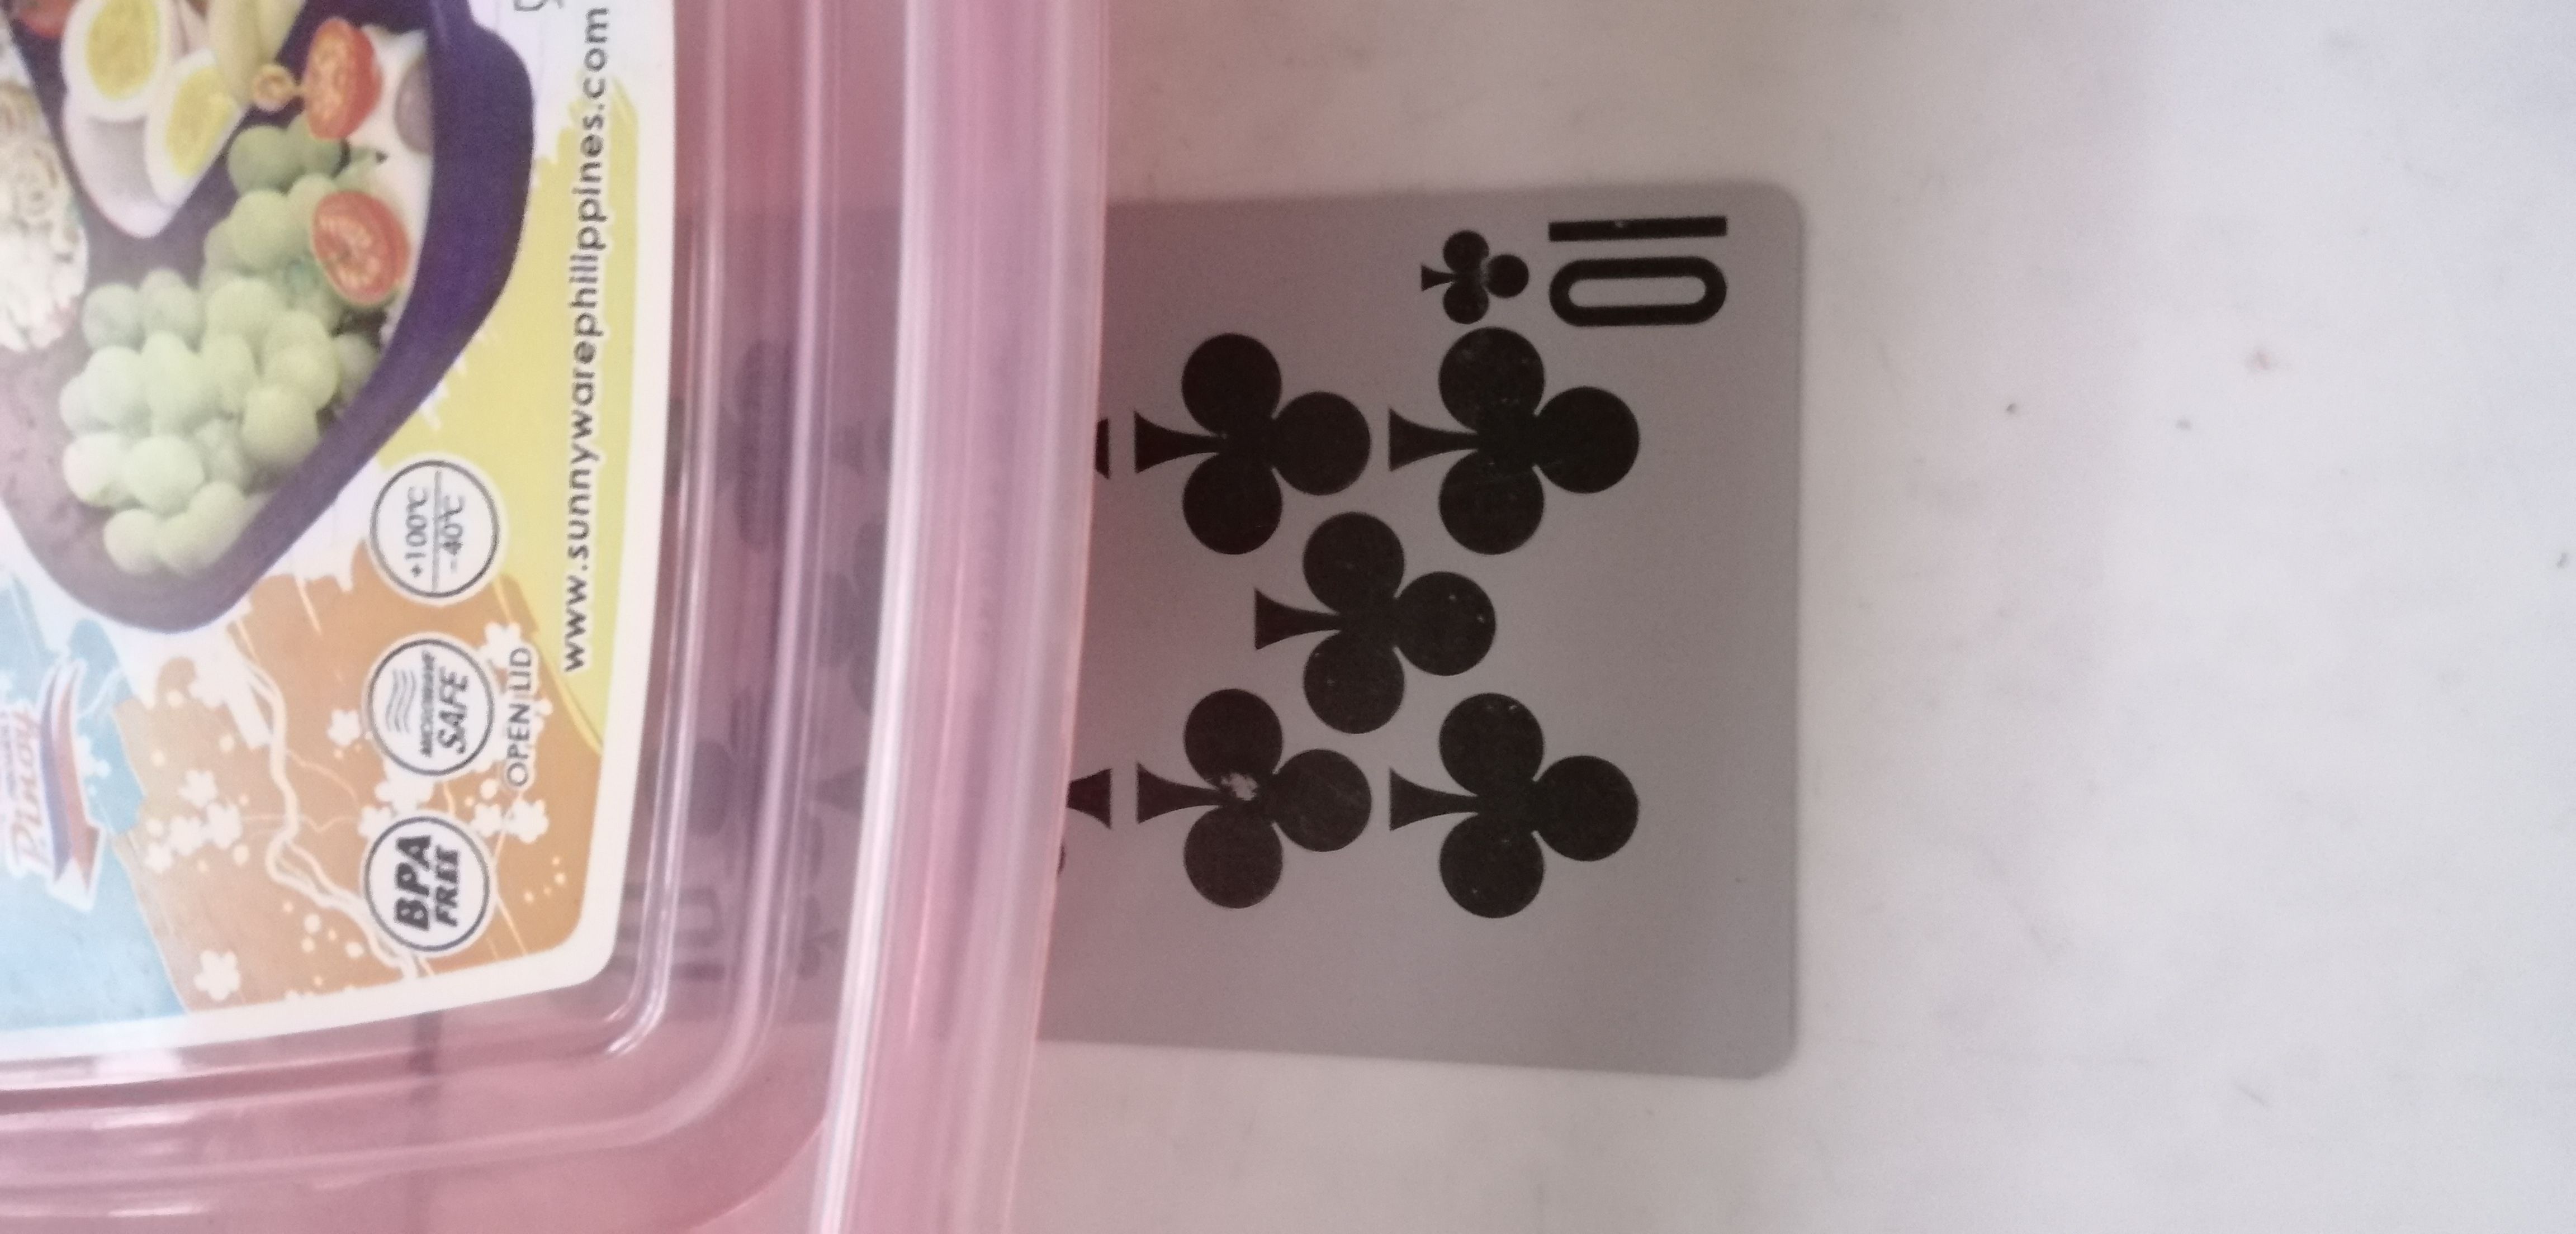ten: (959, 177, 1865, 1117)
